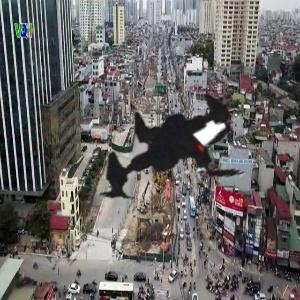drone: (59, 46, 290, 277)
